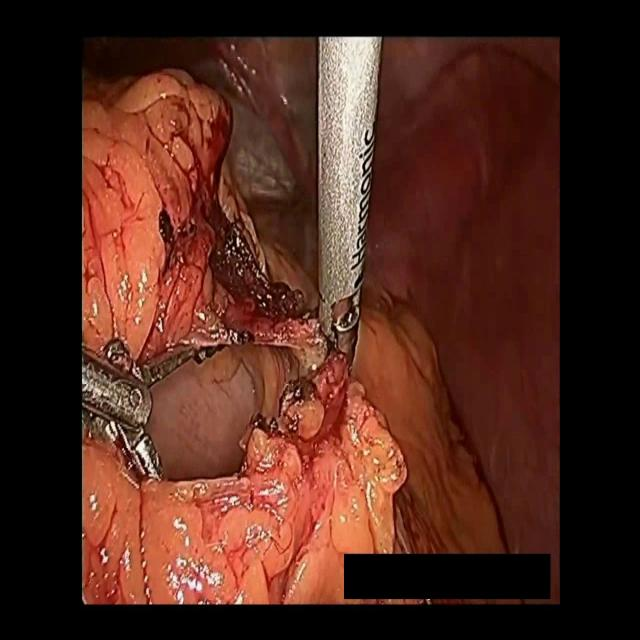surgical-area: (81, 35, 562, 606)
surgical-tool: (318, 35, 382, 363), (82, 344, 166, 483)
